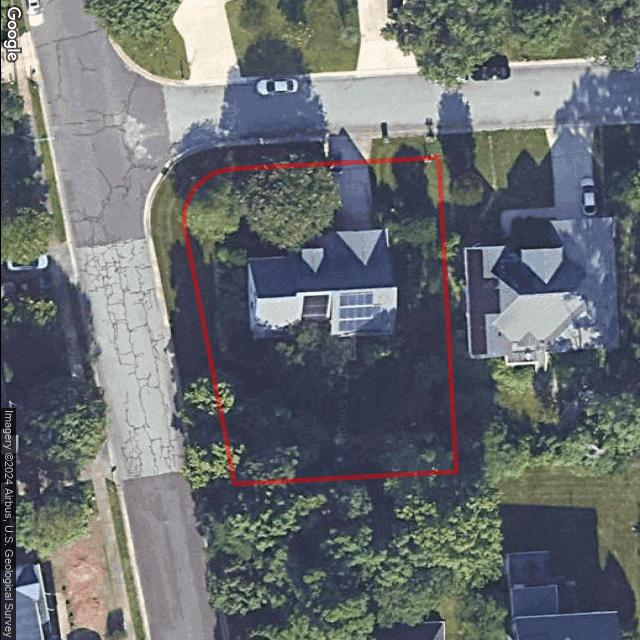Driveway: (330, 162, 374, 231)
Extra-Driveway: (317, 138, 373, 165)
Extra-Lawn: (151, 142, 328, 486), (366, 136, 438, 162)
House: (247, 229, 399, 340)
Lawn: (184, 158, 457, 483)
Other: (320, 336, 355, 369)
